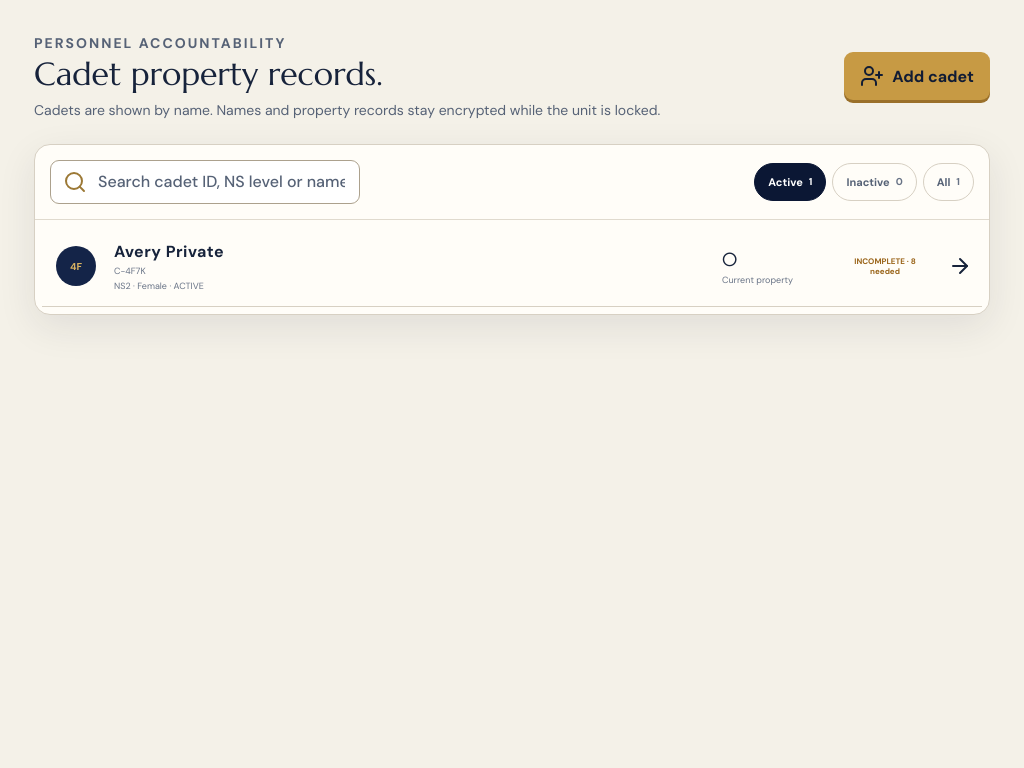
Test: the drawer's phone line (mw-kmgi38.16) › shows no phone line when the screen cannot read one (the demo)
Click the button "C-4F7K" at [76, 266], box [42,227,982,307]
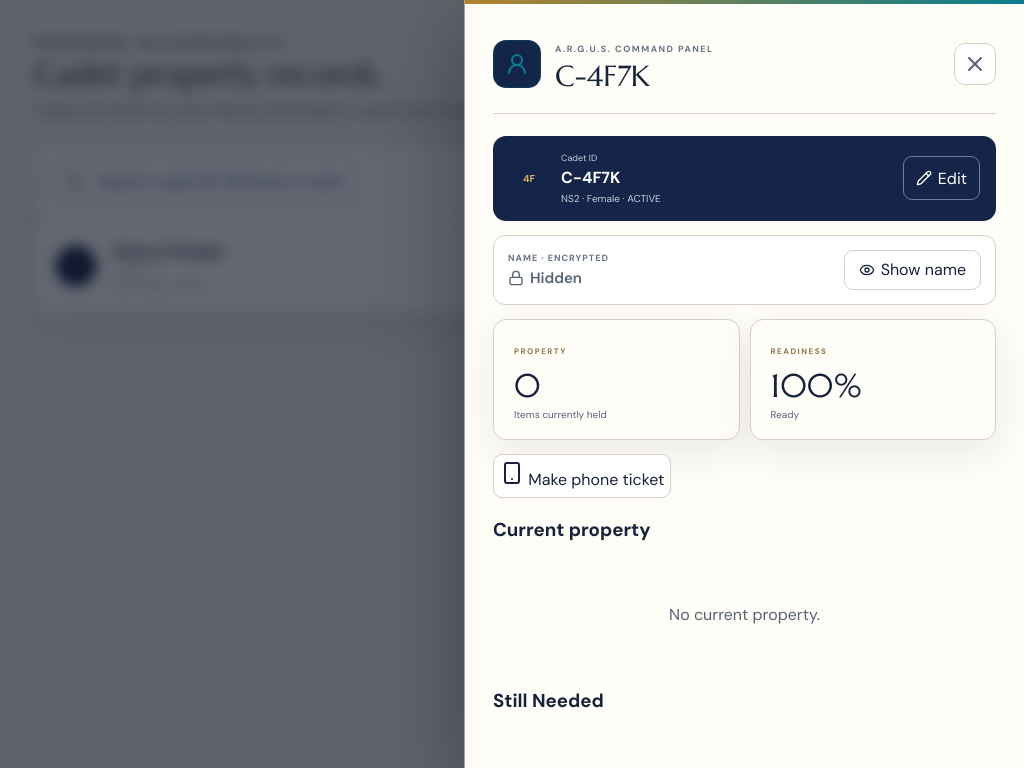
Check: the button "Make phone ticket" is shown, box [493,454,671,498]
